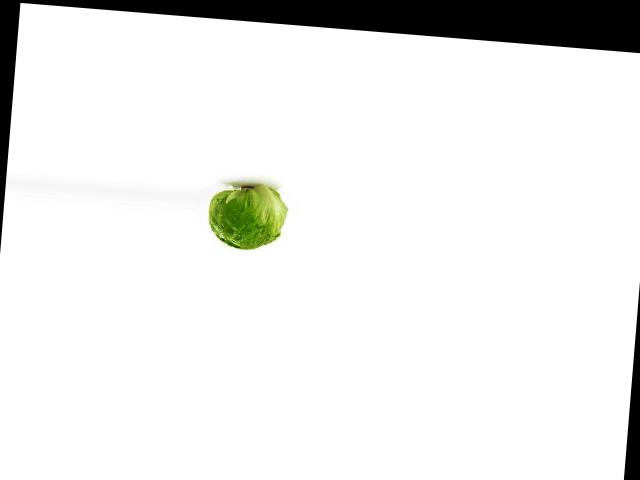lettuce: (196, 184, 289, 254)
